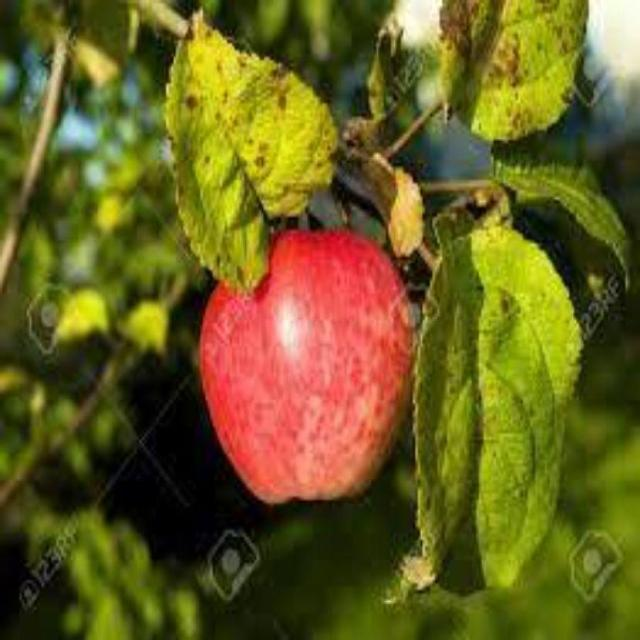Rotten Apple: (180, 212, 422, 506)
